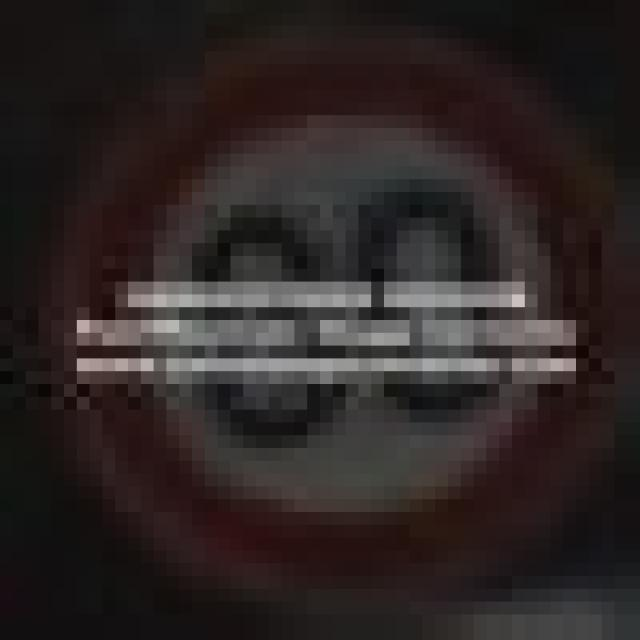SPEED_LIMIT_80: (51, 38, 614, 550)
